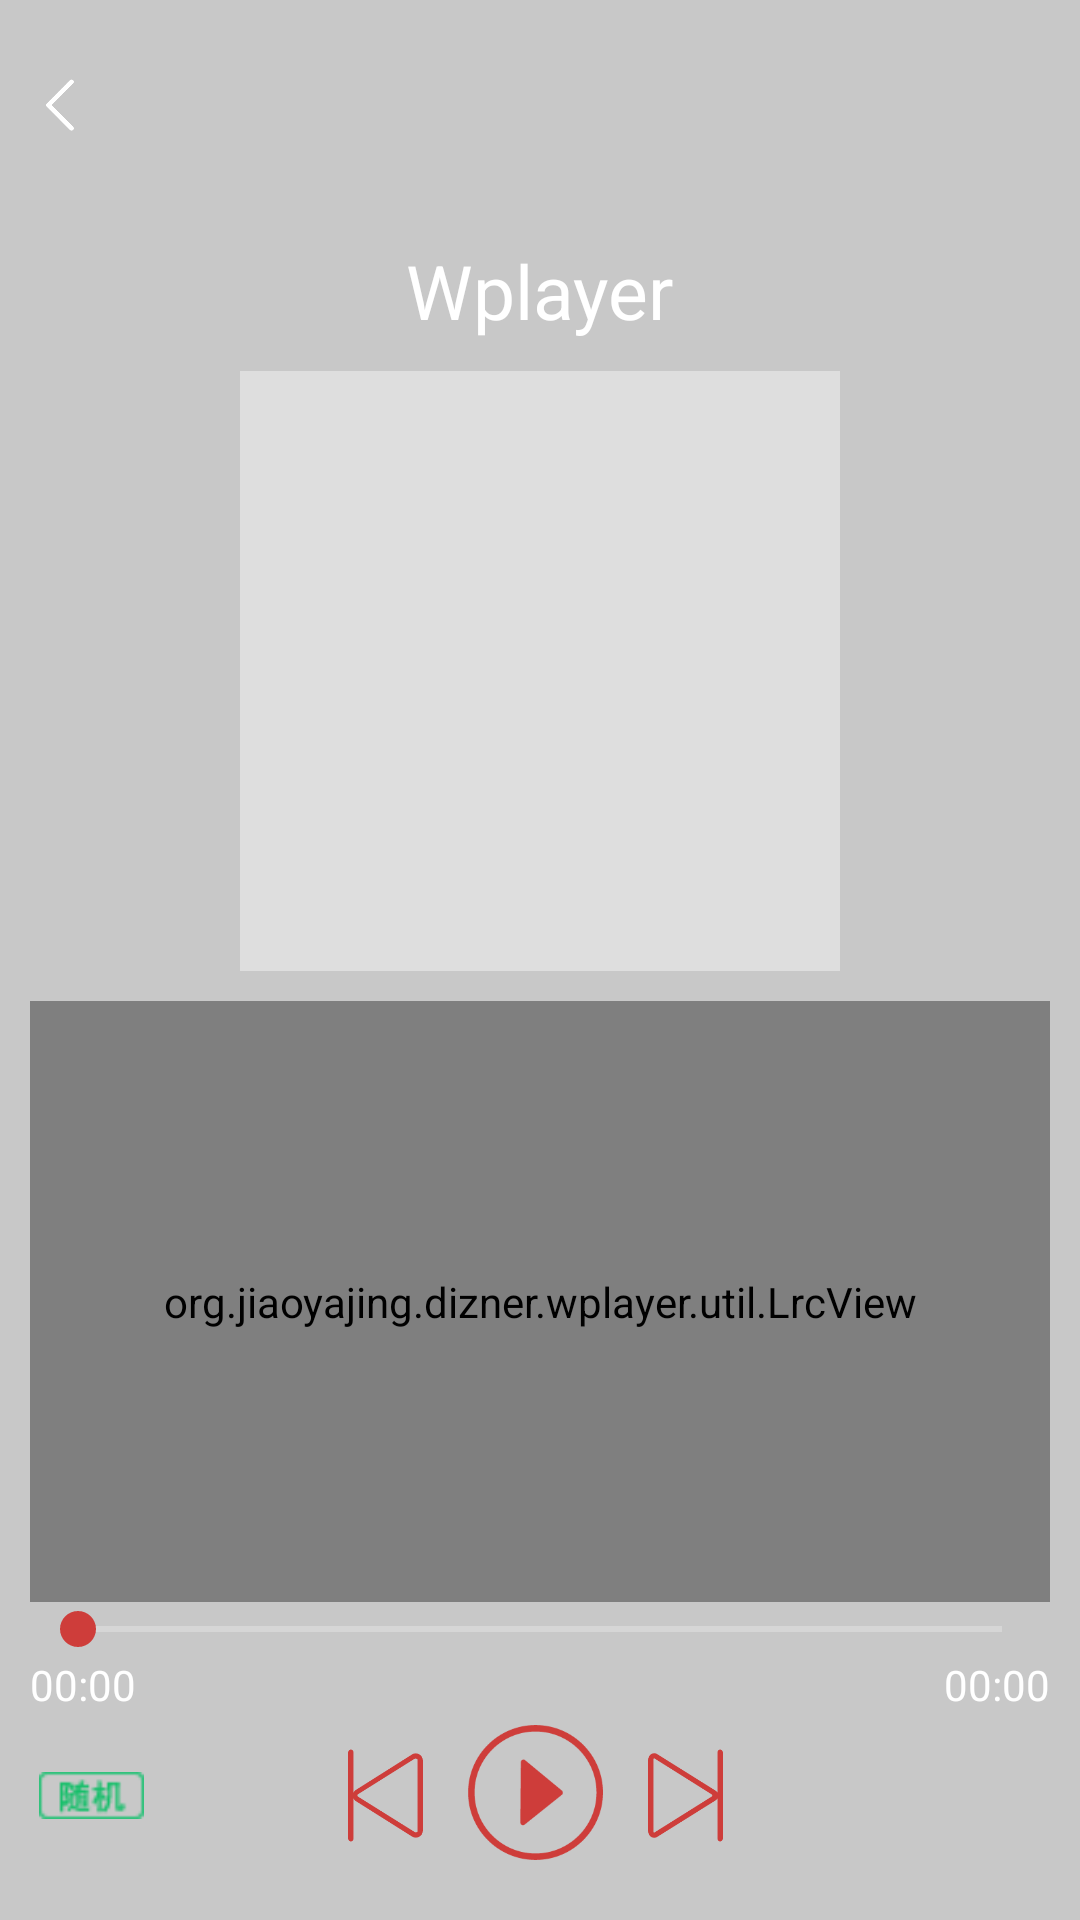

Where icons sit on this 1080w x 1920h app screen, as [left=x1, top=y1, right=x2, bottom=y2]:
baxk: [left=46, top=80, right=74, bottom=131]
next: [left=648, top=1749, right=723, bottom=1842]
pre: [left=348, top=1749, right=423, bottom=1842]
start: [left=468, top=1725, right=603, bottom=1860]
